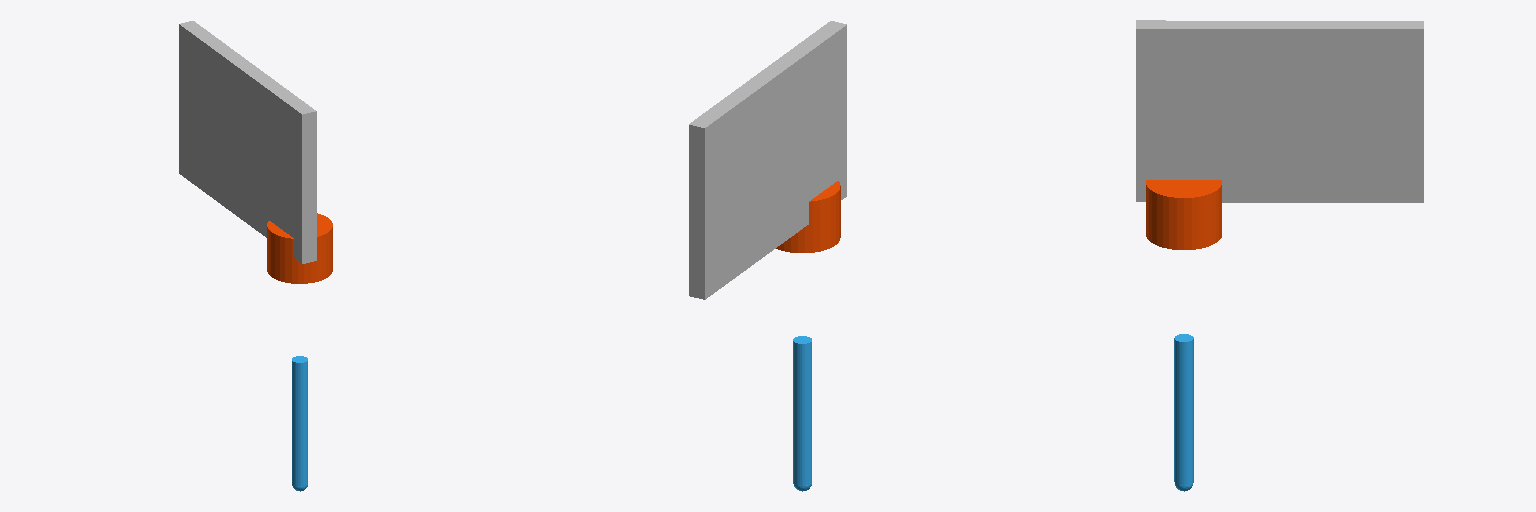
robot.urdf — falcon_bravo7:
<?xml version="1.0" encoding="utf-8"?>
<robot name="falcon_bravo7">
<material name="green2">
  <color rgba="0.235 0.702 0.443 1"/>
</material>

<material name="blue">
  <color rgba="0.263 0.733 0.984 1"/>
</material>

<material name="trans_black">
  <color rgba="0.8 0.8 0.8 1"/>
</material>

<material name="black2">
  <color rgba="0.8 0.8 0.8 1"/>
</material>


<material name="orange">
  <color rgba="1 0.369 0.047 1"/>
</material>

<material name="green">
  <color rgba="0 1 0 0.5"/>
</material>

<material name="bravo_black">
  <color rgba="0.3 0.3 0.3 0.7"/>
</material>

<material name="bravo_jaws_black">
    <color rgba="0.3 0.3 0.3 1"/>
</material>

<link name="mobile_base">
    <visual>
            <geometry>
                <mesh filename="package://bravo_description/meshes/caracara_visual_color.dae" scale="0.5 0.5 0.5"/>
            </geometry>
            <material name="blue"/>
    </visual>
</link>

<link name="attachment">
    <visual>
            <geometry>
                 <box size="0.02 0.3 0.2" />
            </geometry>
            <material name="black2"/>
    </visual>
</link>

        <joint name="link_vehicle" type="fixed">
            <origin xyz="-0.01 -0.1 0" rpy="0 0 0"/>
            <parent link="link1"/>
            <child link="attachment"/>
        </joint>

<link name="base_link"/>

        <joint name="bravo_joint" type="fixed">
            <origin rpy="0 0 0" xyz="0 0 0"/>
            <parent link="base_link"/>
            <child link="bravo_base_link"/>
        </joint>

<link name="bravo_base_link"/>


<link name="base_link_yaw"/>


        <joint name="Yaw" type="revolute">
            <parent link="base_link_yaw"/>
            <child link="mobile_base"/>
            <origin rpy="0 0 0" xyz="0 0 0"/>
            <axis xyz="0 0 1"/>
            <limit effort="10.0" lower="-1000.0" upper="1000" velocity="5"/>
        </joint>

        <joint name="bravo_base" type="fixed">
            <parent link="mobile_base"/>
            <child link="base_link"/>
            <origin rpy="0 0 3.14" xyz="-0.3 -0.6 -0.3"/>
        </joint>

<link name="link1">
    <visual>
        <geometry>
            <mesh filename="package://bravo_description/meshes/RS2-266.stl"/>
        </geometry>
        <material name="blue"/>
    </visual>
</link>

        <joint name="base_fixed" type="fixed">
            <parent link="bravo_base_link"/>
            <child link="link1"/>
            <origin rpy="0 0 0"/>
        </joint>

<link name="link2">
    <visual>
        <geometry>
            <mesh filename="package://bravo_description/meshes/RS2-217.stl"/>
        </geometry>
        <material name="green2"/>
        </visual>
</link>

        <joint name="joint1" type="revolute">
            <parent link="link1"/>
            <child link="link2"/>
            <origin rpy="0 0 0" xyz="0.0665 0 0.078"/>
            <axis xyz="0 0 -1"/>
            <limit effort="9.0" lower="0.0" upper="6.3" velocity="0.5"/>
        </joint>

<link name="link3">
    <visual>
        <geometry>
            <mesh filename="package://bravo_description/meshes/RS2-250-212-214.stl"/>
        </geometry>
        <material name="blue"/>
    </visual>
</link>

        <joint name="joint2" type="revolute">
            <parent link="link2"/>
            <child link="link3"/>
            <origin rpy="0 0 0" xyz="-0.046 0 0.0674"/>
            <axis xyz="0 1 0"/>
            <limit effort="9.0" lower="0.0" upper="3.5" velocity="0.5"/>
        </joint>

<link name="link4">
    <visual>
        <geometry>
            <mesh filename="package://bravo_description/meshes/RS2-268.stl"/>
        </geometry>
        <material name="green2"/>
    </visual>
</link>

        <joint name="joint3" type="revolute">
            <parent link="link3"/>
            <child link="link4"/>
            <origin rpy="0 0 0" xyz="-0.0052 0 -0.29055"/>
            <axis xyz="0 1 0"/>
            <limit effort="9.0" lower="0.0" upper="3.5" velocity="0.5"/>
        </joint>


<link name="link5">
    <visual>
        <geometry>
            <mesh filename="package://bravo_description/meshes/RS2-214.stl"/>
        </geometry>
        <material name="blue"/>
    </visual>
</link>

        <joint name="joint4" type="revolute">
            <parent link="link4"/>
            <child link="link5"/>
            <origin rpy="0 0 0" xyz="0.0408 0 0.09695"/>
            <axis xyz="0 0 -1"/>
            <limit effort="9.0" lower="0.0" upper="6.3" velocity="0.5"/>
        </joint>

<link name="link6">
    <visual>
        <geometry>
            <mesh filename="package://bravo_description/meshes/RS2-161.stl"/>
        </geometry>
        <material name="green2"/>
    </visual>
</link>

        <joint name="joint5" type="revolute">
            <parent link="link5"/>
            <child link="link6"/>
            <origin rpy="0 0 0" xyz="-0.0408 0 0.063"/>
            <axis xyz="0 1 0"/>
            <limit effort="9.0" lower="0.0" upper="3.5" velocity="0.5"/>
        </joint>

<link name="link7">
    <visual>
        <geometry>
            <mesh filename="package://bravo_description/meshes/RS2-180.stl"/>
        </geometry>
        <material name="blue"/>
    </visual>
</link>

<link name="force_torque_sensor">
    <visual>
        <geometry>
            <cylinder length="0.06" radius="0.04"/>
        </geometry>
        <material name="orange"/>
    </visual>
</link>

        <joint name="FT_fixed_1" type="fixed">
            <origin rpy="0 0 1.57" xyz=" 0 0 -0.03"/>
            <parent link="link7"/>
            <child link="force_torque_sensor"/>
        </joint>

        <joint name="joint6" type="revolute">
            <parent link="link6"/>
            <child link="link7"/>
            <origin rpy="0 3.14159 0" xyz="-0.0408 0 -0.14863"/>
            <axis xyz="0 0 -1"/>
            <limit effort="9.0" lower="0.0" upper="6.3" velocity="0.5"/>
        </joint>

        <joint name="bravo_jaws_joint" type="fixed">
            <origin rpy="0 0 0" xyz=" 0 0 0.124"/>
            <parent link="link7"/>
            <child link="bravo_jaws_base_link"/>
        </joint>

<link name="bravo_jaws_base_link"/>           

<!-- contact_point_joint -->
        <joint name="contact_point_joint" type="fixed">
            <!-- 0.16/0.185 for plastic/metal tool with boardmarker-->
            <!-- 0.15/0.21 for blue/white polymer tool with sponge -->
            <origin rpy="0 0 0" xyz="0 0 0.315"/>
            <parent link="force_torque_sensor"/>
            <child link="contact_point"/>
        </joint>

<!-- contact_point -->
  <link name="contact_point">
    <visual>
      <origin rpy="0 0 0" xyz="0 0 0"/>
      <geometry>
        <sphere radius="0.01"/>
      </geometry>
      <material name="blue"/>
    </visual>
  </link>

<link name="end_effector">
    <visual>
      <origin rpy="0 0 0" xyz="0 0 0"/>
      <geometry>
        <cylinder radius="0.01" length="0.165"/>
      </geometry>
      <material name="blue"/>
    </visual>
</link>


        <joint name="tool" type="fixed">
            <parent link="contact_point"/>
            <child link="end_effector"/>
            <origin rpy="0 0 0" xyz="0 0 -0.083"/>
        </joint>

</robot>

--- What the picture shows (computed from the rendered views, not written in the file) ---
The picture shows the robot from 3 angles, left to right: view 1: azimuth 30°, elevation 25°; view 2: azimuth 150°, elevation 25°; view 3: azimuth 270°, elevation 25°; orthographic projection.
Model falcon_bravo7 with 16 links and 15 joints (7 revolute, 8 fixed), rooted at base_link_yaw, posed all joints at 0.
Visible links, largest first — view 1: attachment, force_torque_sensor, end_effector; view 2: attachment, end_effector, force_torque_sensor; view 3: attachment, force_torque_sensor, end_effector.
Boxes of the visible links, x1,y1,x2,y2 form: attachment: (179,21,316,263); force_torque_sensor: (267,213,332,283); end_effector: (292,356,307,485); attachment: (689,21,846,299); end_effector: (793,336,811,485); force_torque_sensor: (776,181,840,252); attachment: (1136,20,1423,202); force_torque_sensor: (1146,180,1221,249); end_effector: (1174,334,1193,485).
Size in the robot's own frame: 0.08 by 0.3 by 0.5288 metres.
0 mesh visuals loaded from 8 distinct referenced files (none loaded); not drawn: 8 (reference not matched to a file when rendering).